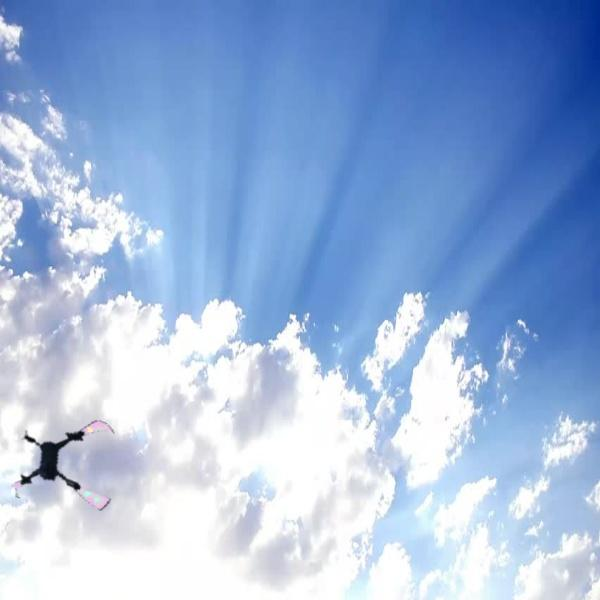drone: (11, 404, 127, 520)
